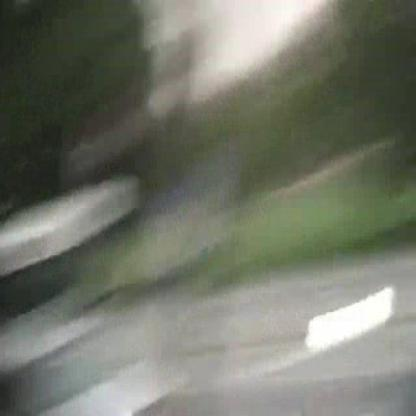other: (305, 272, 392, 368)
